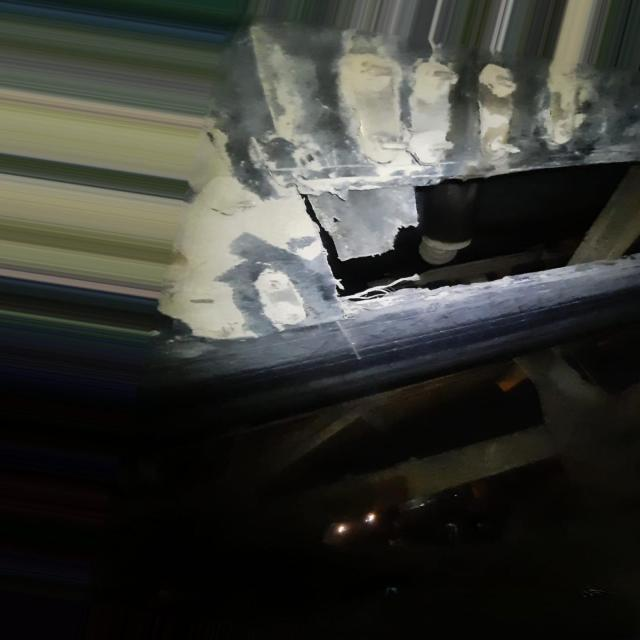Hole: (304, 158, 640, 298)
